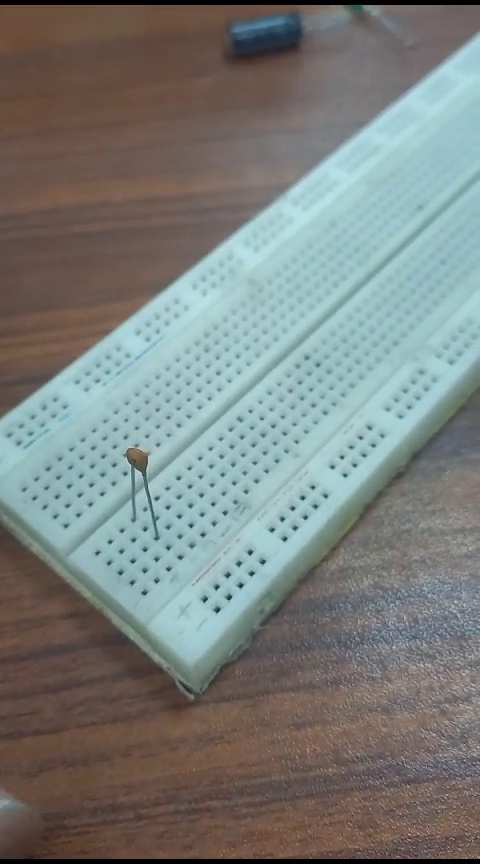ceramic capacitor: (120, 443, 155, 532)
